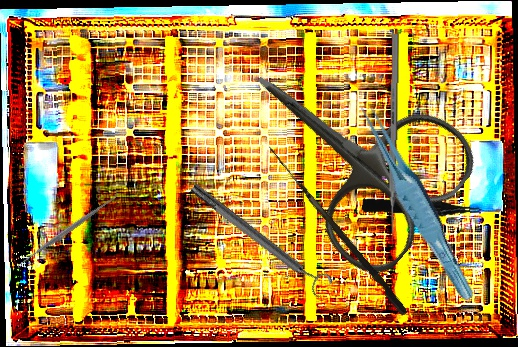Fixation Ring: (185, 175, 335, 301)
Hook Surgical: (260, 145, 412, 317)
Iris Scissors: (205, 10, 488, 288)
Pusher: (387, 33, 400, 247)
Spatula Surgical: (12, 188, 124, 272)
Tissue Forceps: (355, 91, 477, 309), (361, 193, 483, 224)
